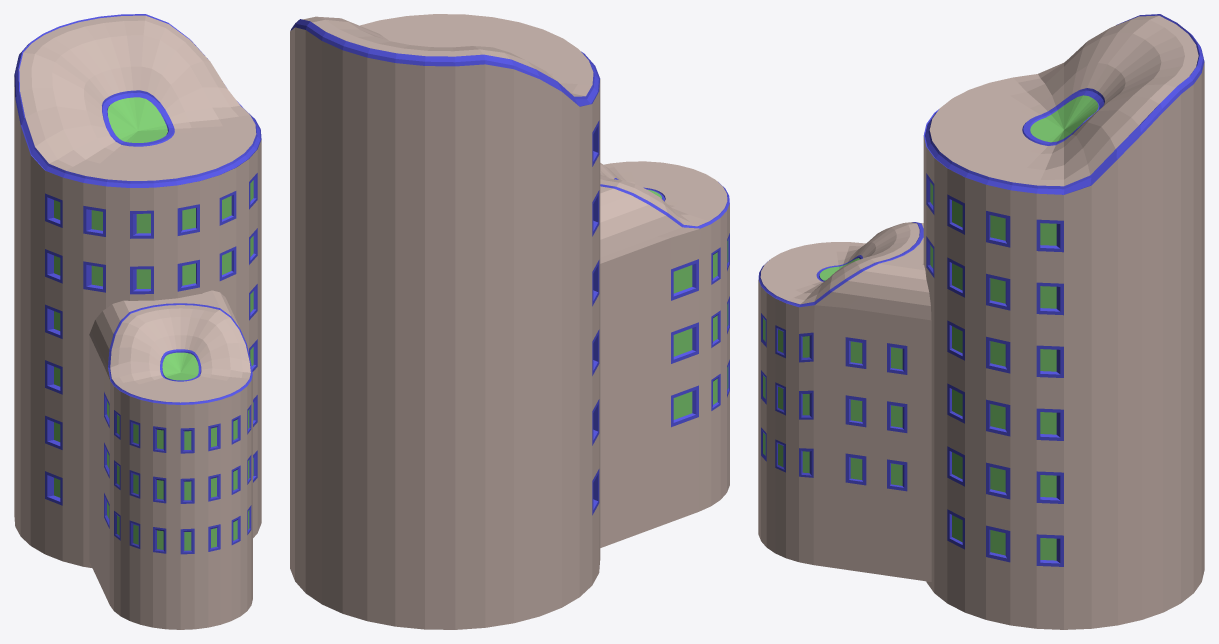
File: Logement_S.fbx
The picture shows the model from 3 angles, left to right: view 1: azimuth 30°, elevation 25°; view 2: azimuth 150°, elevation 25°; view 3: azimuth 270°, elevation 25°; orthographic projection. The views are drawn at different scales.
Parts seen in each view (by area): view 1: Cylinder.004; view 2: Cylinder.004; view 3: Cylinder.004.
Part boxes in pixels (bbox=[...]): Cylinder.004: bbox=[14, 14, 261, 629]; Cylinder.004: bbox=[290, 14, 729, 629]; Cylinder.004: bbox=[758, 14, 1204, 629].
Bounding box in the file's own units: 917 × 1767 × 1384.
